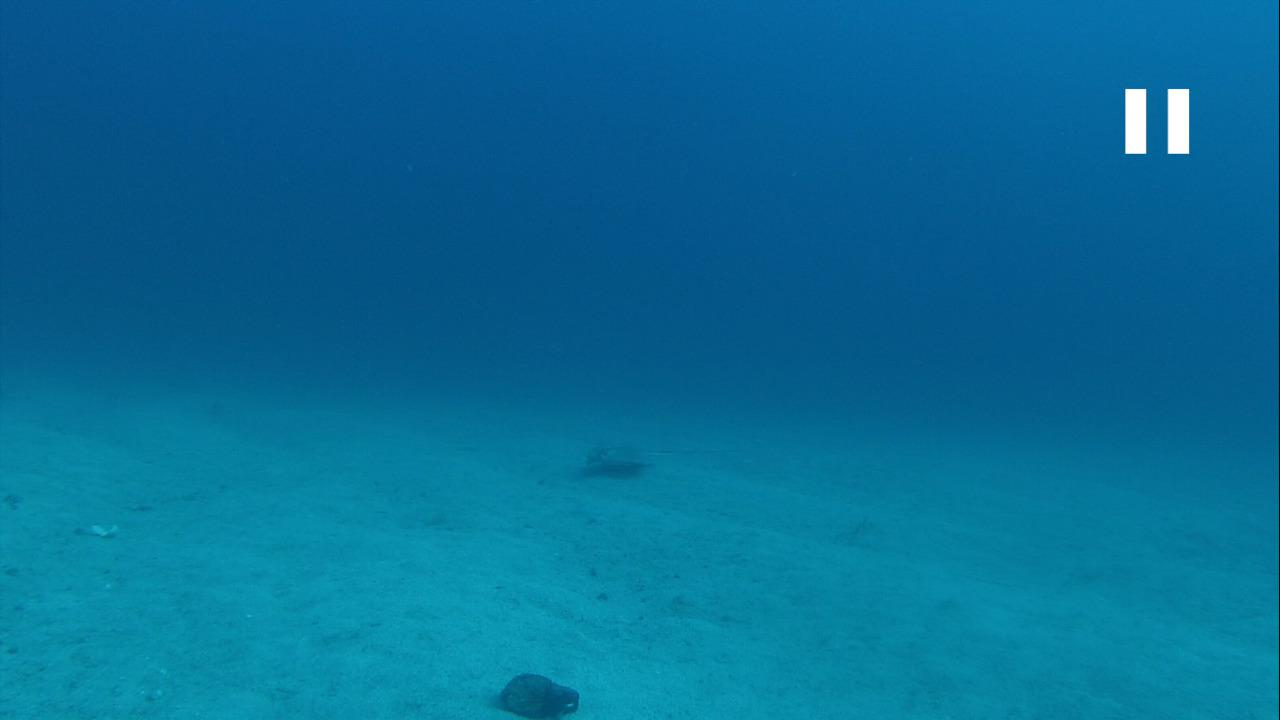myliobatis: (560, 429, 677, 470)
